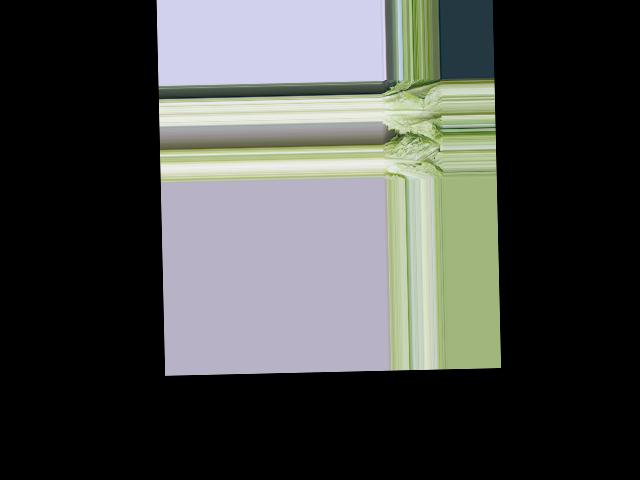lettuce: (381, 136, 440, 177)
